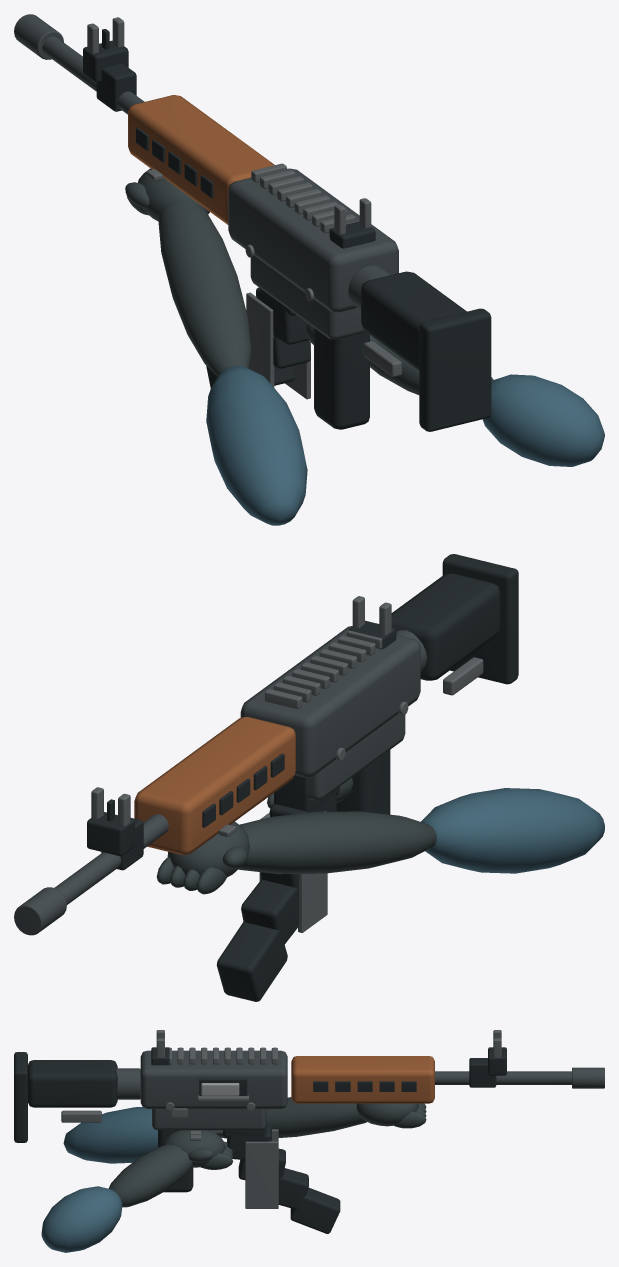
The model's file is view_ak.glb.
The picture shows the model from 3 angles, top to bottom: view 1: azimuth 30°, elevation 25°; view 2: azimuth 150°, elevation 25°; view 3: azimuth 270°, elevation 25°; orthographic projection. The views are drawn at different scales.
Visible parts, largest first — view 1: weapon_body_mesh.001, support_hand_mesh.001, trigger_hand_mesh.001, magazine_mesh.001; view 2: weapon_body_mesh.001, support_hand_mesh.001, magazine_mesh.001; view 3: weapon_body_mesh.001, trigger_hand_mesh.001, support_hand_mesh.001, magazine_mesh.001, bolt_mesh.001.
Part boxes in pixels (x1,y1,x2,y2): weapon_body_mesh.001: (14,14,491,431); support_hand_mesh.001: (125,168,307,525); trigger_hand_mesh.001: (306,323,604,466); magazine_mesh.001: (206,287,310,399); weapon_body_mesh.001: (14,554,518,935); support_hand_mesh.001: (156,788,604,894); magazine_mesh.001: (216,775,339,1001); weapon_body_mesh.001: (14,1030,604,1192); trigger_hand_mesh.001: (41,1130,233,1252); support_hand_mesh.001: (63,1097,426,1163); magazine_mesh.001: (223,1109,340,1233); bolt_mesh.001: (201,1083,239,1095).
Size of the model in its own units: 0.7241 by 0.5832 by 1.61.
